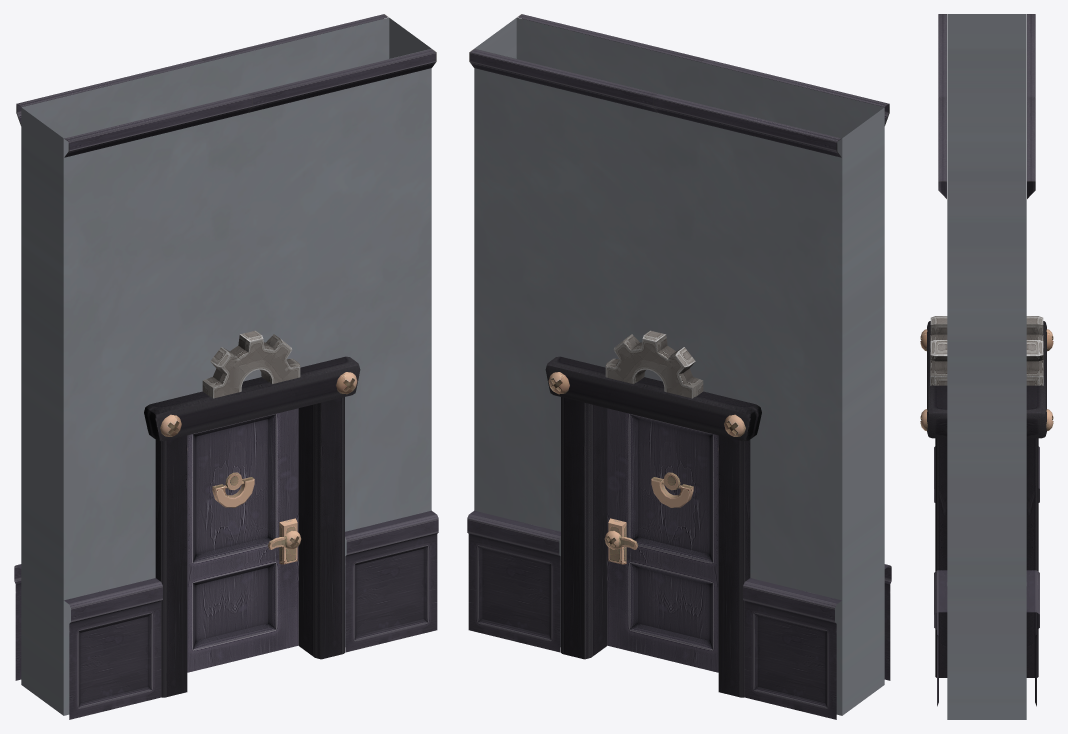
The model's file is Ev_company_inner_shell_doormoldingwall 1.fbx.
The picture shows the model from 3 angles, left to right: view 1: azimuth 30°, elevation 25°; view 2: azimuth 150°, elevation 25°; view 3: azimuth 270°, elevation 25°; orthographic projection. The views are drawn at different scales.
Parts seen in each view (by area): view 1: Ev_company_inner_shell_door_wall, Ev_company_inner_shell_door_wall_molding, Ev_company_inner_door; view 2: Ev_company_inner_shell_door_wall, Ev_company_inner_shell_door_wall_molding, Ev_company_inner_door; view 3: Ev_company_inner_shell_door_wall, Ev_company_inner_shell_door_wall_molding.
Boxes of the visible parts, x1,y1,x2,y2 form: Ev_company_inner_shell_door_wall: (21,17,431,715); Ev_company_inner_shell_door_wall_molding: (14,14,438,719); Ev_company_inner_door: (187,408,301,672); Ev_company_inner_shell_door_wall: (474,17,884,715); Ev_company_inner_shell_door_wall_molding: (467,14,891,719); Ev_company_inner_door: (604,408,718,672); Ev_company_inner_shell_door_wall: (920,14,1053,719); Ev_company_inner_shell_door_wall_molding: (934,14,1039,706).
Size of the model in its own units: 200 by 300 by 67.25.
